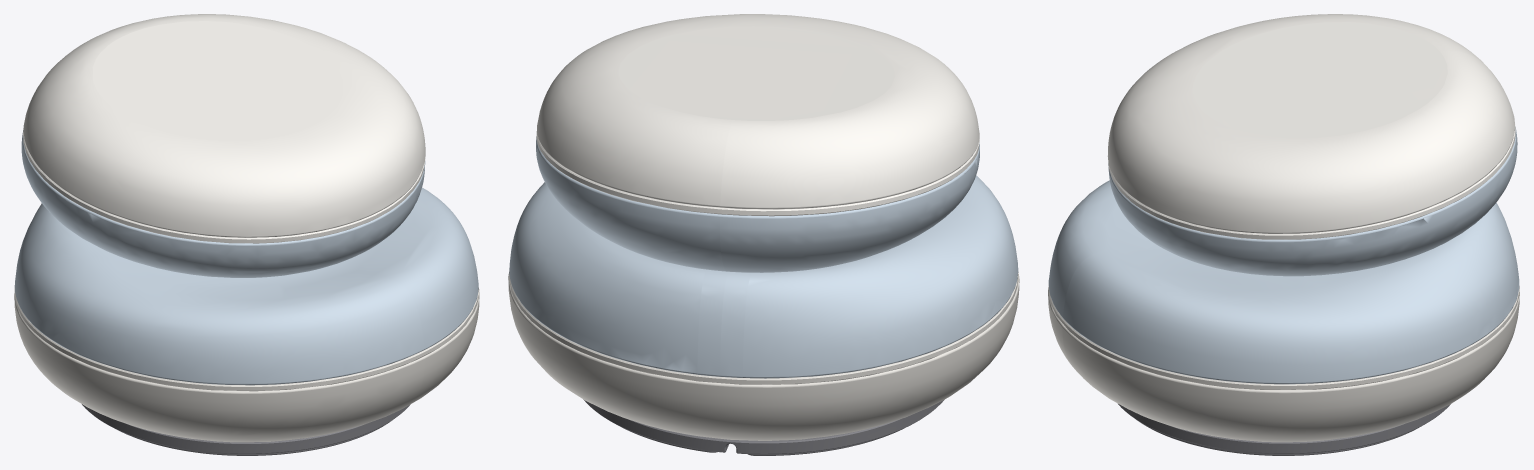
Rendered from cove-rig.glb.
3 views of the same model, side by side, from view 1: azimuth 30°, elevation 25°; view 2: azimuth 150°, elevation 25°; view 3: azimuth 270°, elevation 25° (orthographic). The views are drawn at different scales.
Visible parts, largest first — view 1: 새 헤드 상판, 새 하부 폼, 새 하부 쉘, 새 쿠션, 하부 회전판, 새 하부 덮개판, 새 헤드 하부판, 새 미끄럼방지 고무링; view 2: 새 헤드 상판, 새 하부 폼, 새 하부 쉘, 새 쿠션, 하부 회전판, 새 하부 덮개판, 새 헤드 하부판; view 3: 새 헤드 상판, 새 하부 폼, 새 하부 쉘, 새 쿠션, 하부 회전판, 새 하부 덮개판, 새 헤드 하부판, 새 미끄럼방지 고무링.
Part boxes in pixels (box(x1,y1,x2,y2)): 새 헤드 상판: box(23, 14, 425, 237); 새 하부 폼: box(14, 187, 478, 385); 새 하부 쉘: box(14, 287, 479, 442); 새 쿠션: box(21, 130, 425, 277); 하부 회전판: box(82, 404, 410, 453); 새 하부 덮개판: box(14, 288, 478, 391); 새 헤드 하부판: box(23, 128, 425, 243); 새 미끄럼방지 고무링: box(118, 422, 389, 455); 새 헤드 상판: box(537, 14, 979, 209); 새 하부 폼: box(509, 175, 1018, 378); 새 하부 쉘: box(508, 272, 1019, 440); 새 쿠션: box(536, 136, 979, 272); 하부 회전판: box(583, 399, 943, 454); 새 하부 덮개판: box(509, 273, 1018, 384); 새 헤드 하부판: box(536, 131, 979, 216); 새 헤드 상판: box(1107, 14, 1514, 233); 새 하부 폼: box(1048, 180, 1519, 384); 새 하부 쉘: box(1048, 287, 1519, 442); 새 쿠션: box(1108, 126, 1517, 276); 하부 회전판: box(1118, 404, 1450, 453); 새 하부 덮개판: box(1048, 286, 1519, 389); 새 헤드 하부판: box(1108, 124, 1515, 239); 새 미끄럼방지 고무링: box(1138, 421, 1421, 455).
Bounding box in the file's own units: 0.2218 × 0.1596 × 0.2211.
